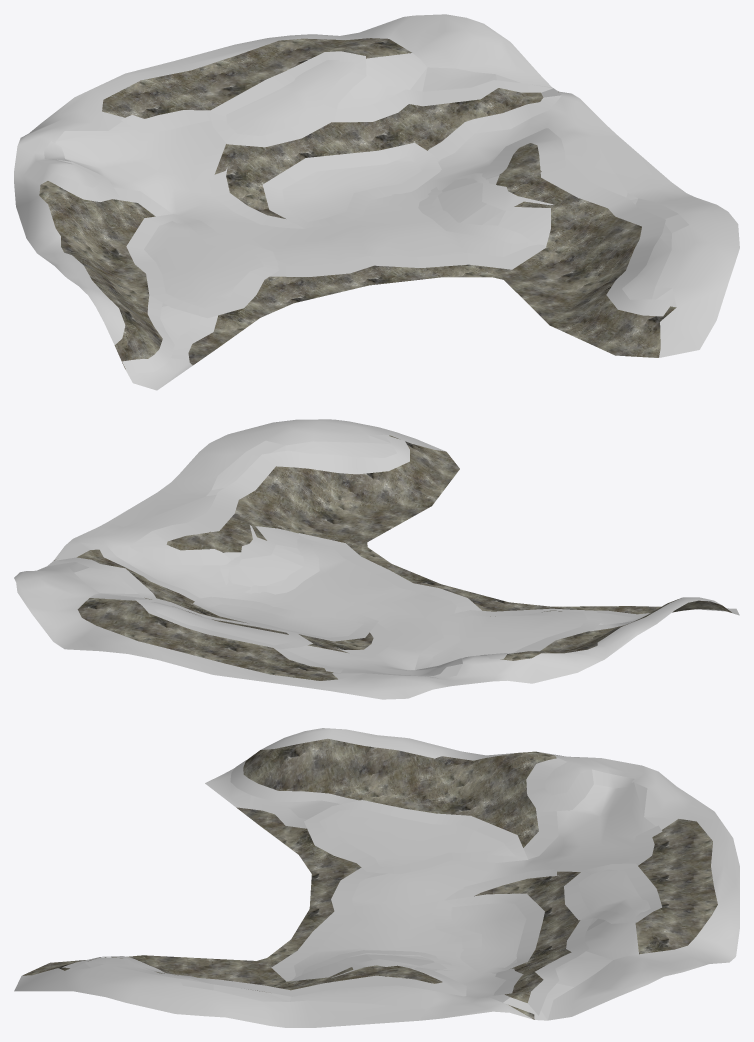
File: Terrain_Optimised (1).fbx
The picture shows the model from 3 angles, top to bottom: view 1: azimuth 30°, elevation 25°; view 2: azimuth 150°, elevation 25°; view 3: azimuth 270°, elevation 25°; orthographic projection. The views are drawn at different scales.
Parts seen in each view (by area): view 1: OptimisedTerrain1, DirtEdge7, DirtEdge6, GrassEdge2, GrassEdge4, GrassEdge1, DirtEdge3, GrassEdge3, GrassEdge5, DirtEdge4, DirtEdge2, DirtEdge5 (+2 smaller); view 2: OptimisedTerrain1, DirtEdge7, GrassEdge4, GrassEdge2, GrassEdge3, DirtEdge6, DirtEdge3, GrassEdge1, DirtEdge4, GrassEdge5; view 3: OptimisedTerrain1, GrassEdge4, GrassEdge2, DirtEdge7, GrassEdge5, DirtEdge6, GrassEdge1, DirtEdge3, DirtEdge2, GrassEdge3, DirtEdge8, DirtEdge4 (+2 smaller).
Boxes of the visible parts, x1,y1,x2,y2 form: OptimisedTerrain1: (14, 14, 739, 390); DirtEdge7: (482, 128, 674, 316); DirtEdge6: (332, 80, 561, 160); GrassEdge2: (262, 143, 441, 228); GrassEdge4: (126, 214, 278, 318); GrassEdge1: (209, 51, 366, 147); DirtEdge3: (270, 244, 546, 276); GrassEdge3: (418, 173, 553, 244); GrassEdge5: (44, 141, 119, 201); DirtEdge4: (208, 168, 305, 228); DirtEdge2: (122, 295, 174, 372); DirtEdge5: (121, 110, 211, 132); OptimisedTerrain1: (14, 419, 739, 699); DirtEdge7: (130, 434, 409, 565); GrassEdge4: (415, 608, 602, 669); GrassEdge2: (193, 596, 378, 641); GrassEdge3: (220, 525, 319, 594); DirtEdge6: (54, 542, 219, 620); DirtEdge3: (298, 533, 481, 611); GrassEdge1: (135, 599, 312, 649); DirtEdge4: (336, 623, 393, 655); GrassEdge5: (426, 653, 507, 678); OptimisedTerrain1: (14, 728, 739, 1027); GrassEdge4: (304, 800, 528, 874); GrassEdge2: (432, 893, 544, 973); DirtEdge7: (62, 956, 466, 996); GrassEdge5: (526, 758, 634, 812); DirtEdge6: (488, 918, 592, 1015); GrassEdge1: (564, 863, 662, 923); DirtEdge3: (271, 867, 375, 981); DirtEdge2: (230, 760, 359, 803); GrassEdge3: (302, 950, 452, 977); DirtEdge8: (523, 809, 558, 859); DirtEdge4: (444, 869, 559, 900).
Size of the model in its own units: 4822 by 554 by 5314.
